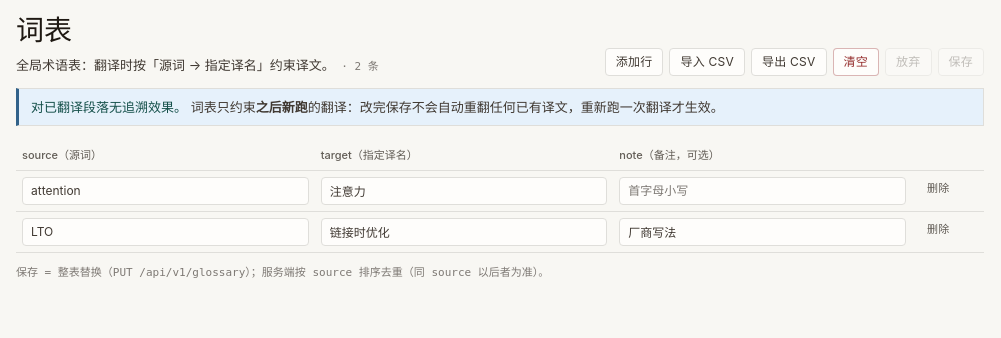
Scenario: GlossaryScreen（全局词表） › 行级错误（只填一边）挡住保存
Expected: the table is shown, x1=16 y1=142 x2=984 y2=253
Clear the field named "第 1 行 source（源词）" at (165, 191), box x1=22 y1=177 x2=309 y2=205
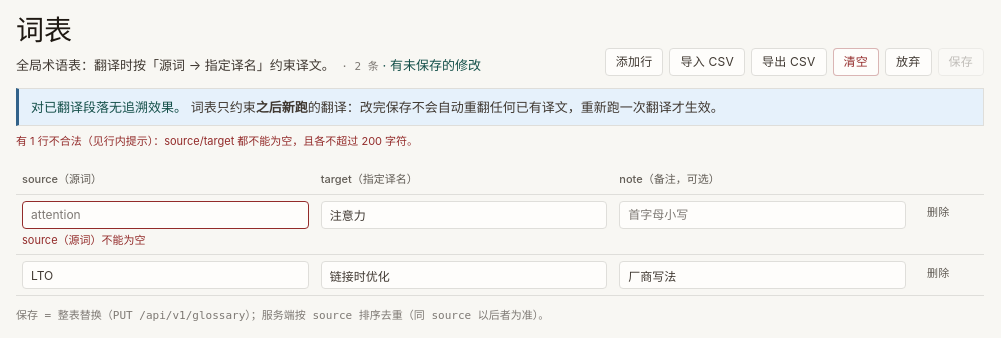
Expected: the button "保存" is disabled, x1=938 y1=48 x2=984 y2=76
Now the text "有 1 行不合法（见行内提示）：source/target 都不能为空，且各不超过 200 字符。" is shown, box x1=16 y1=134 x2=418 y2=148
